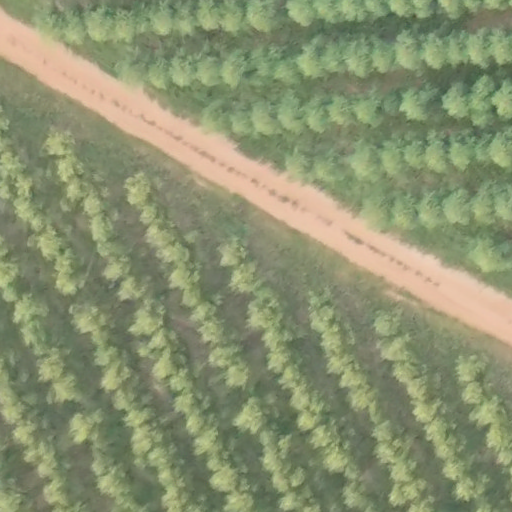eucalipto: (370, 417, 412, 467), (246, 90, 284, 140), (467, 232, 512, 274), (345, 136, 385, 181), (233, 395, 282, 431), (303, 37, 346, 78), (399, 80, 439, 124), (309, 290, 348, 334), (363, 303, 411, 337), (451, 347, 494, 383), (394, 23, 423, 74), (11, 290, 53, 325), (31, 348, 74, 382), (71, 298, 111, 334), (249, 289, 285, 329), (67, 405, 103, 445), (352, 88, 387, 129), (319, 323, 360, 358), (471, 73, 496, 130), (123, 167, 160, 205), (15, 320, 55, 355), (312, 146, 347, 186), (393, 186, 425, 229), (446, 127, 475, 174), (443, 185, 472, 232), (144, 1, 179, 39), (84, 4, 119, 42), (424, 127, 451, 176), (414, 186, 443, 231), (245, 1, 284, 34), (305, 92, 334, 136), (62, 11, 94, 50), (264, 344, 307, 373), (471, 175, 496, 224), (48, 373, 84, 407), (472, 396, 508, 430), (116, 271, 155, 302), (402, 128, 430, 171), (195, 48, 225, 88), (367, 33, 397, 73), (440, 80, 469, 121), (34, 226, 70, 259), (169, 49, 198, 89), (389, 354, 429, 383), (172, 388, 212, 417), (213, 234, 247, 268), (361, 192, 394, 227), (281, 141, 312, 178), (420, 30, 447, 72), (153, 237, 189, 268), (283, 1, 322, 29), (88, 211, 123, 242), (193, 296, 229, 326), (188, 428, 226, 456), (42, 127, 75, 159), (101, 362, 136, 392), (121, 401, 158, 429), (151, 349, 184, 380), (411, 375, 445, 405), (219, 361, 255, 389), (55, 152, 87, 183), (100, 254, 135, 281), (174, 1, 200, 37), (339, 363, 371, 392), (470, 128, 493, 165), (197, 1, 220, 29)
